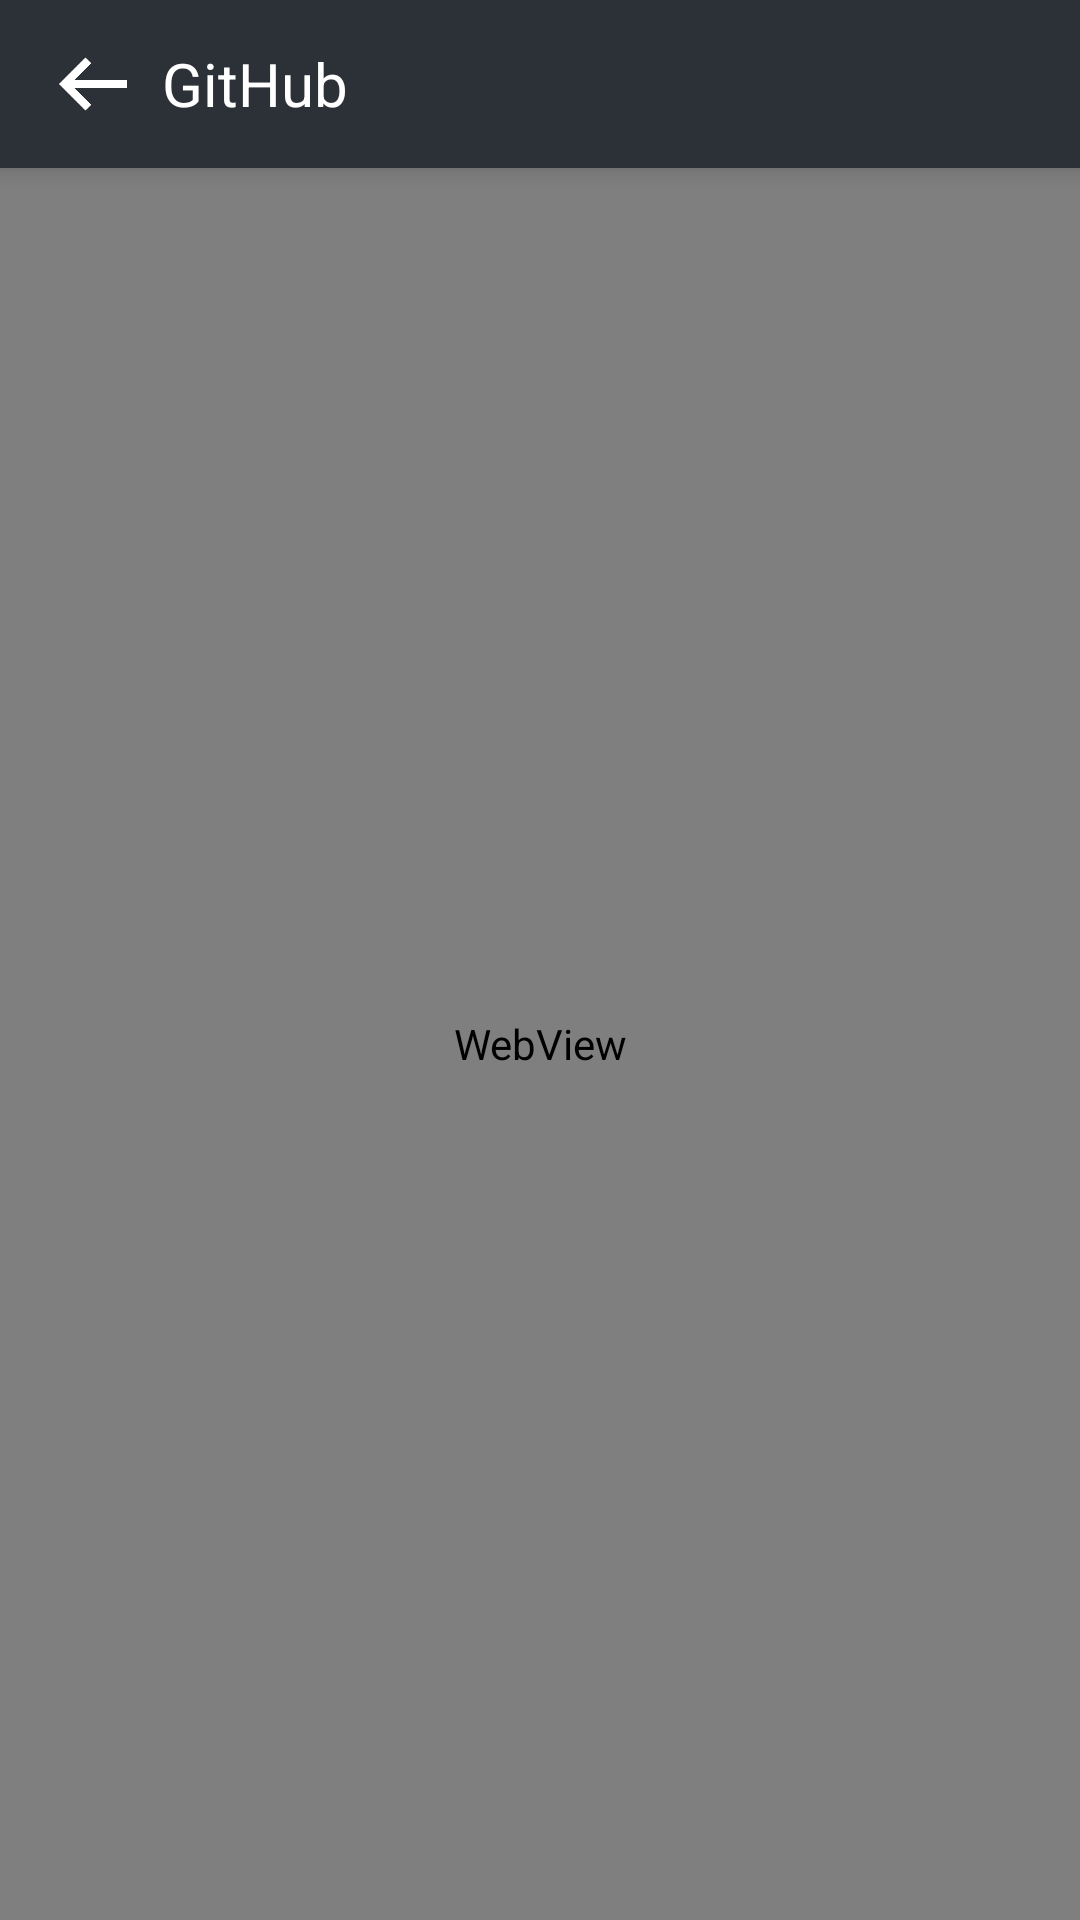

Screen size 1080*1920. Icon name, then its center in pixels as [x,y]:
arrow: [93,84]
